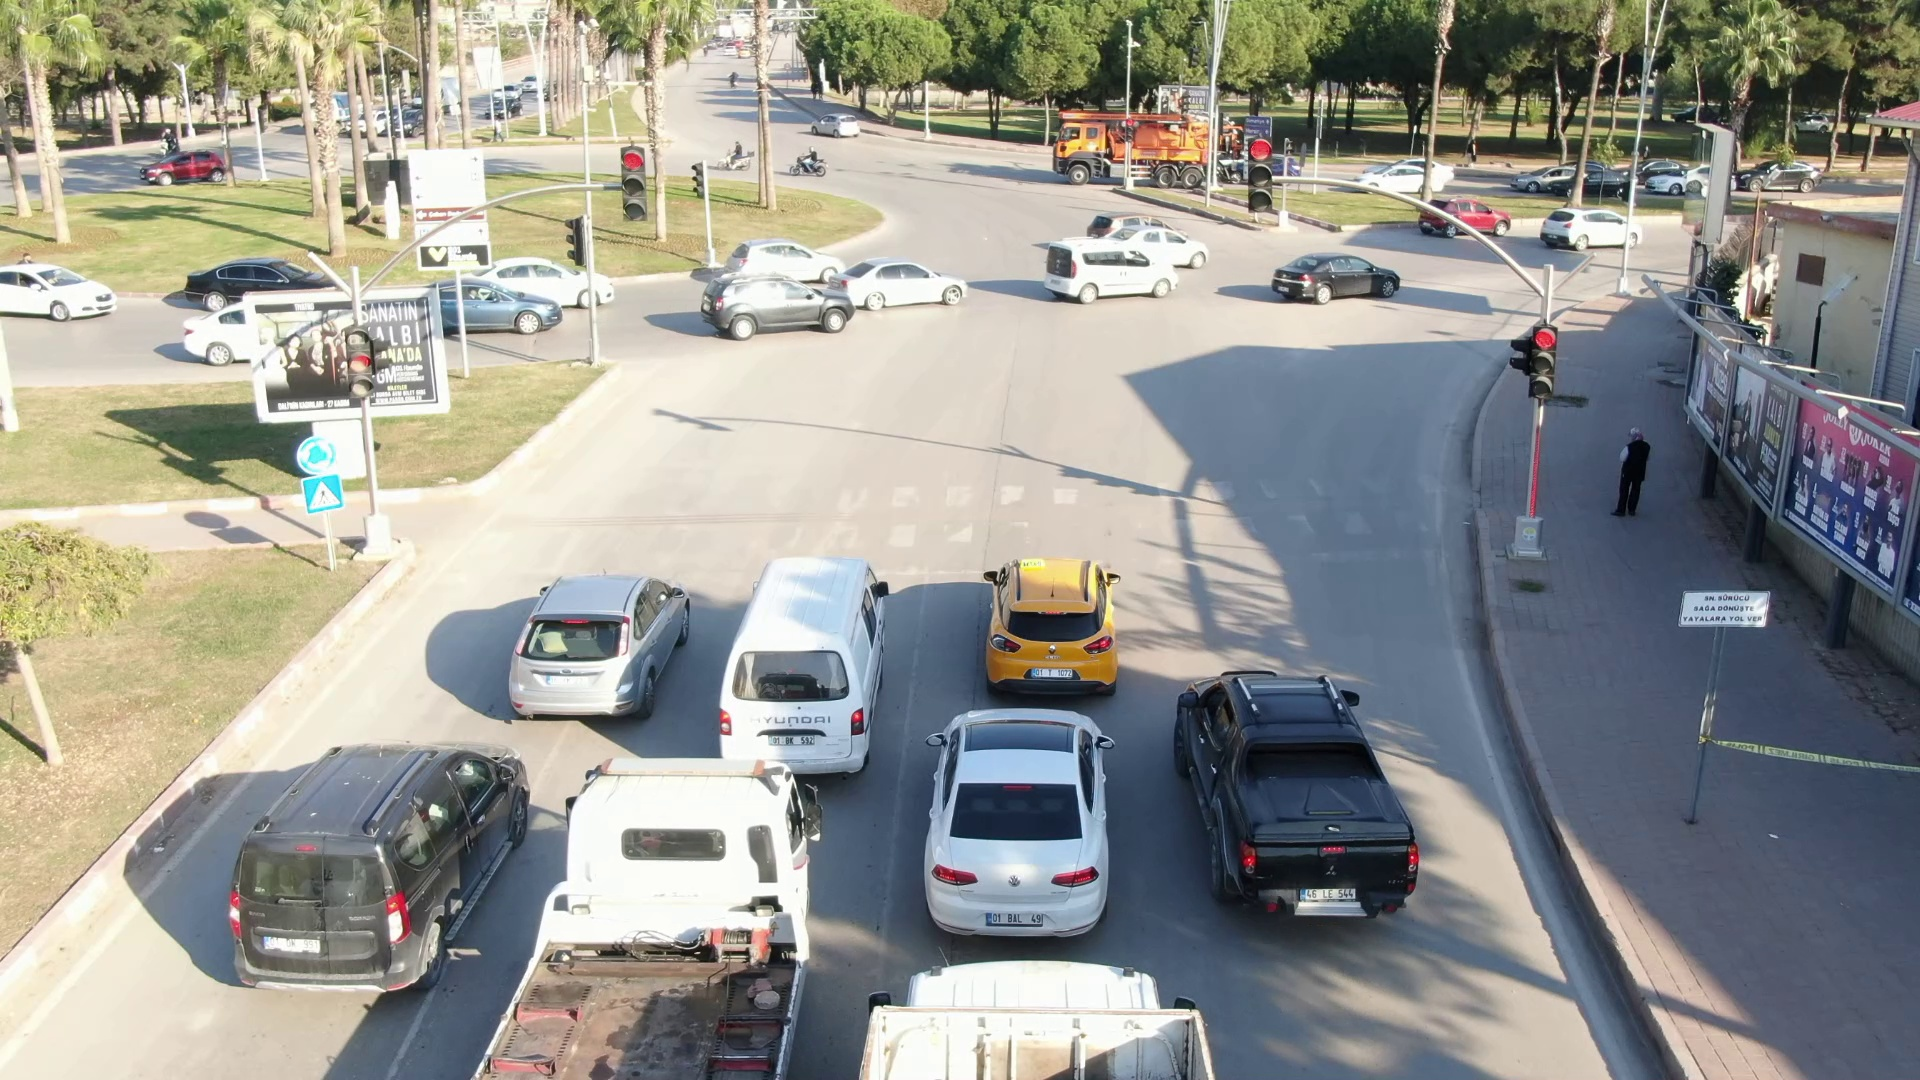car: (227, 740, 526, 997), (1168, 665, 1425, 927), (916, 705, 1117, 938), (711, 553, 899, 777), (508, 568, 691, 723), (985, 550, 1122, 704), (691, 260, 858, 342), (1044, 243, 1179, 309), (439, 274, 568, 338), (3, 258, 123, 324), (185, 258, 339, 309), (1270, 247, 1402, 305), (839, 261, 977, 314), (488, 258, 612, 305), (731, 243, 840, 286), (1540, 208, 1648, 251), (1415, 195, 1516, 240), (138, 146, 227, 186), (1354, 161, 1445, 189), (808, 111, 866, 137)
